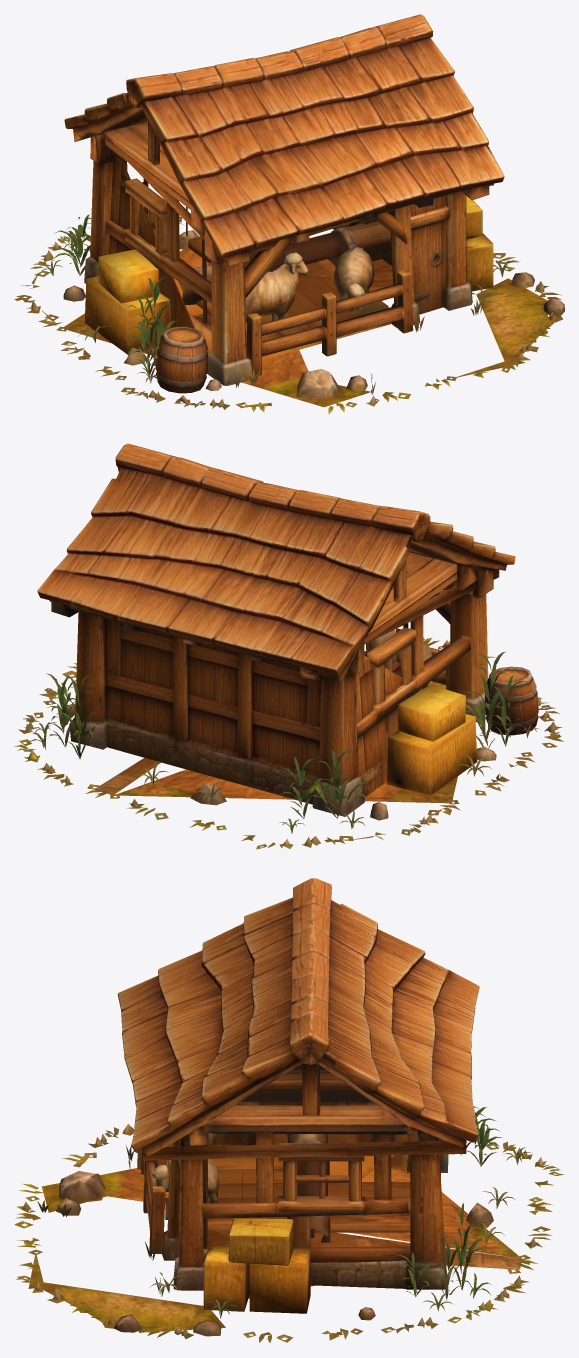
File: bergerie_t1.glb
The picture shows the model from 3 angles, top to bottom: view 1: azimuth 30°, elevation 25°; view 2: azimuth 150°, elevation 25°; view 3: azimuth 270°, elevation 25°; orthographic projection. The views are drawn at different scales.
Parts seen in each view (by area): view 1: bergerie_t1; view 2: bergerie_t1; view 3: bergerie_t1.
Part boxes in pixels (bbox=[...]): bergerie_t1: bbox=[14, 14, 564, 414]; bergerie_t1: bbox=[14, 443, 564, 849]; bergerie_t1: bbox=[14, 878, 563, 1342].
Size of the model in its own units: 1 by 0.5525 by 1.
Materials: 1 (1 with a texture image).
